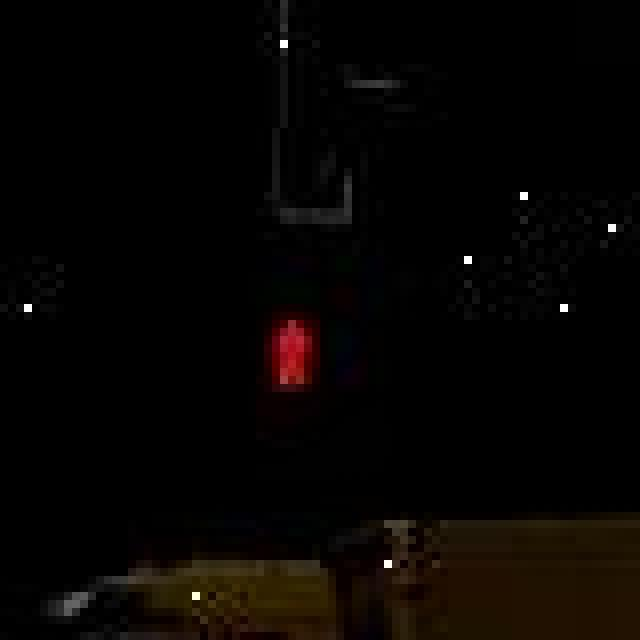redlight: (224, 294, 354, 496)
